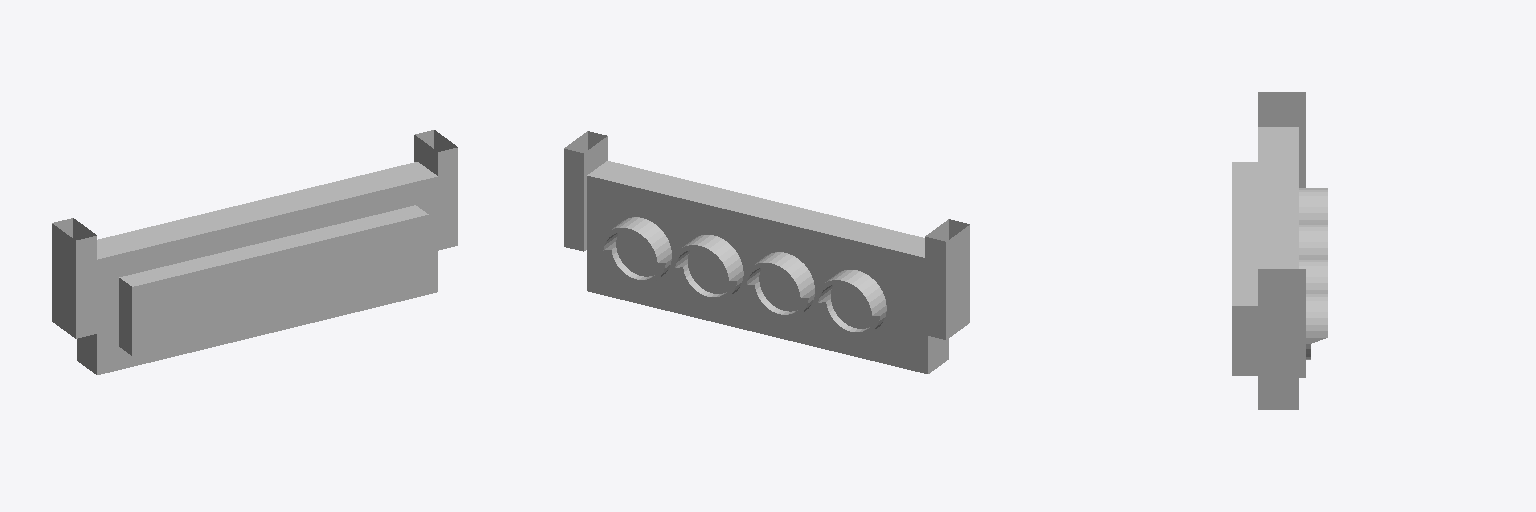
The model's file is advtrains_signals_muc_ubahn_wsig_t.obj.
3 renders of one model, left to right at view 1: azimuth 30°, elevation 25°; view 2: azimuth 150°, elevation 25°; view 3: azimuth 270°, elevation 25°, orthographic.
Visible parts, largest first — view 1: Cube; view 2: Cube; view 3: Cube.
Boxes of the visible parts, <box> form: Cube: <box>52,130,457,374</box>; Cube: <box>564,131,969,373</box>; Cube: <box>1232,92,1327,409</box>.
Bounding box in the file's own units: 0.8023 × 0.2813 × 0.1731.